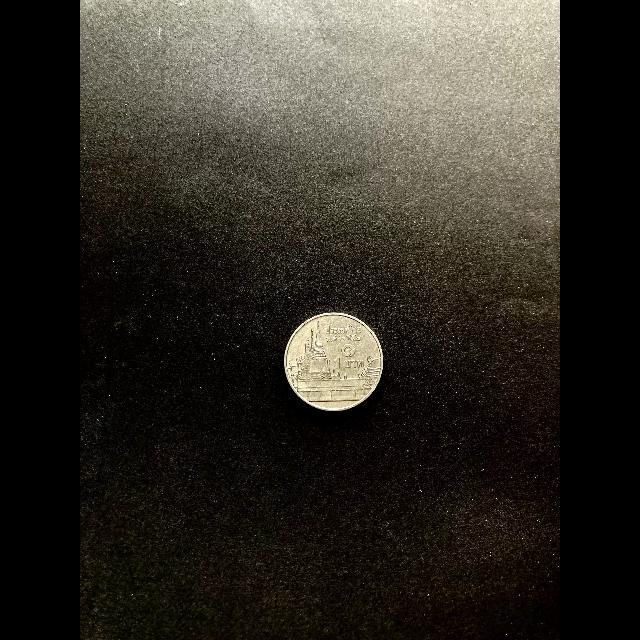1 Bath: (283, 310, 388, 415)
